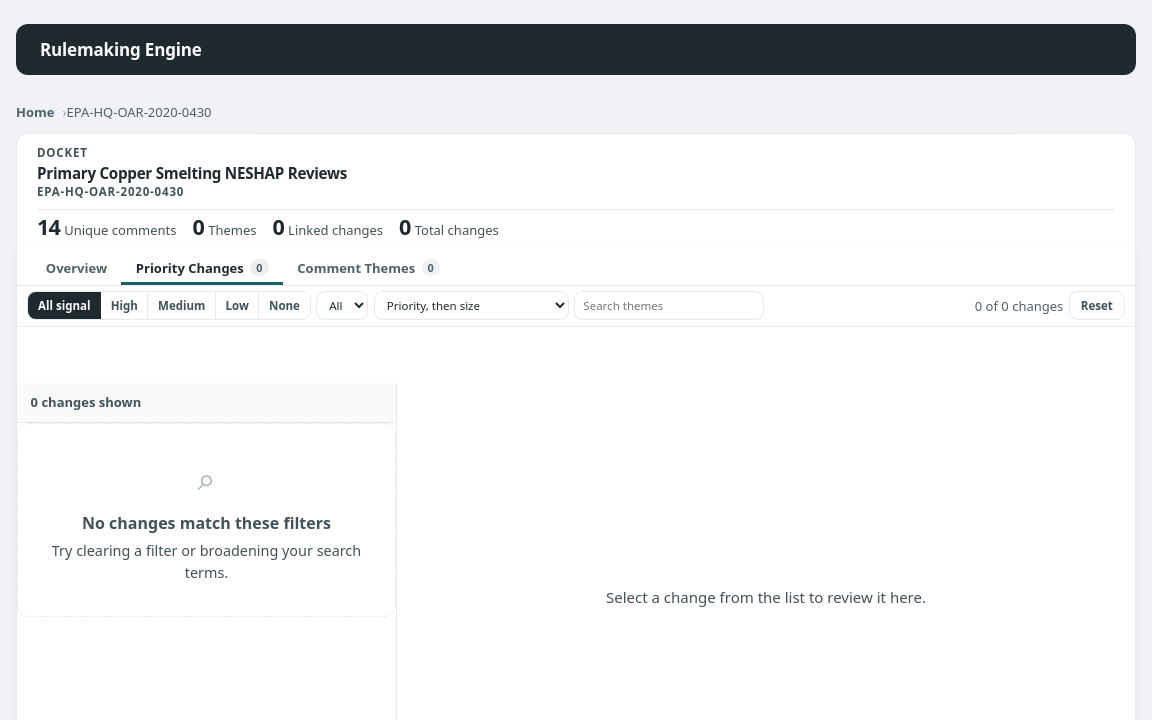
Test: App routes › renders a docket insight loading placeholder while insight report is pending
This screenshot has width=1152, height=720.
Expected: the heading "Primary Copper Smelting NESHAP Reviews" is shown, [37, 165, 347, 182]
Click the button "Overview" at (76, 267), box [31, 249, 121, 285]
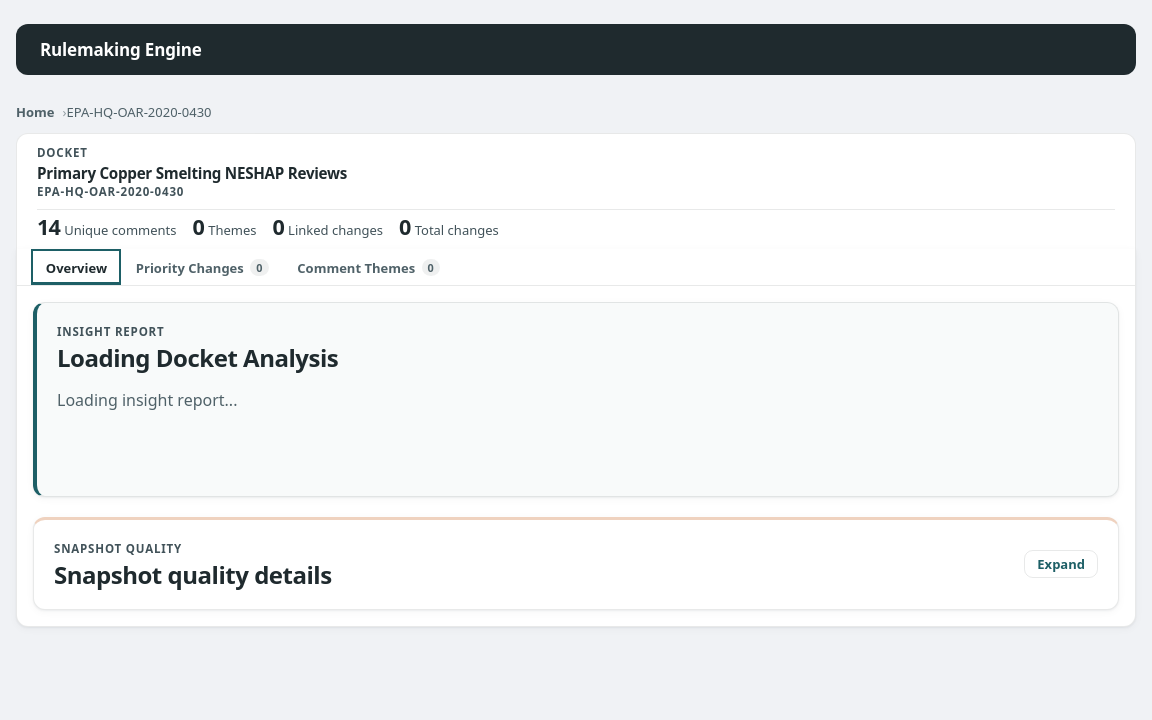
Now the heading "Loading Docket Analysis" is shown, box [57, 341, 338, 374]
Now the text "Loading insight report..." is shown, box [57, 389, 238, 411]
